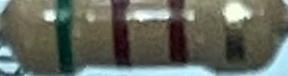Brown: (108, 0, 134, 69), (168, 0, 190, 64)
Green: (55, 0, 77, 76)
Side-Silver: (219, 0, 248, 72)
